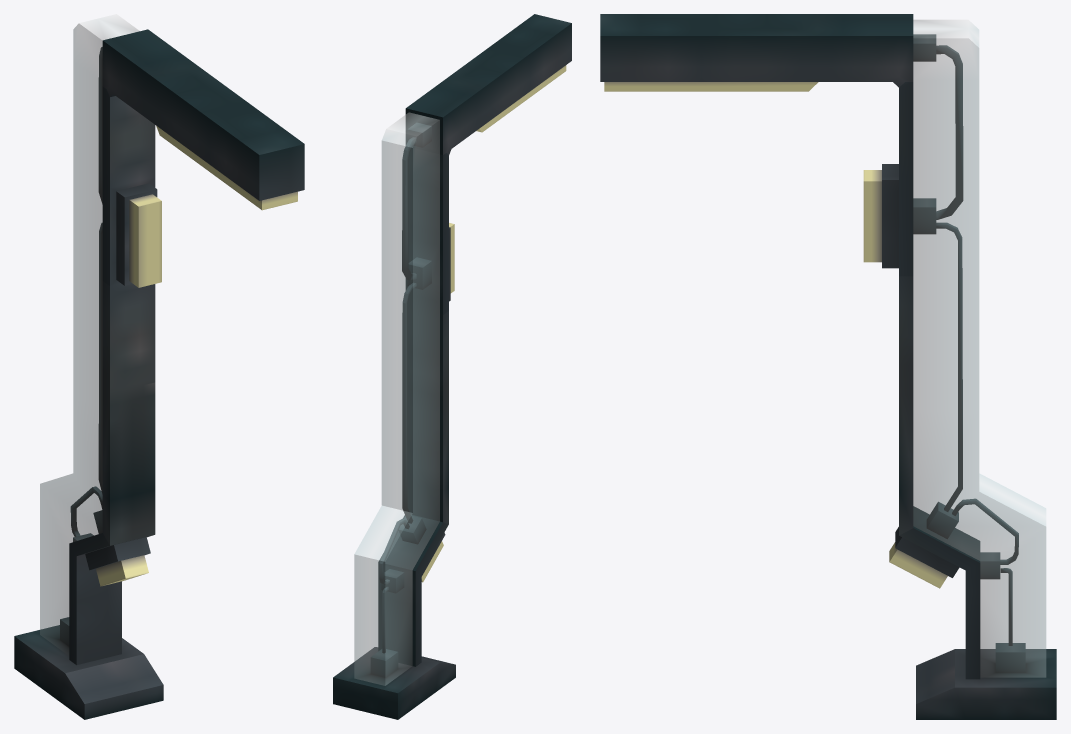
Rendered from lamp-001.glb.
3 renders of one model, left to right at view 1: azimuth 30°, elevation 25°; view 2: azimuth 150°, elevation 25°; view 3: azimuth 270°, elevation 25°, orthographic. The views are drawn at different scales.
Visible parts, largest first — view 1: Cube1; view 2: Cube1; view 3: Cube1.
Boxes of the visible parts, x1=… form: Cube1: x1=14, y1=14, x2=304, y2=719; Cube1: x1=333, y1=14, x2=571, y2=719; Cube1: x1=600, y1=14, x2=1056, y2=719.
Bounding box in the file's own units: 4.73 × 38.68 × 23.67.
Materials: 2 (1 with a texture image).
